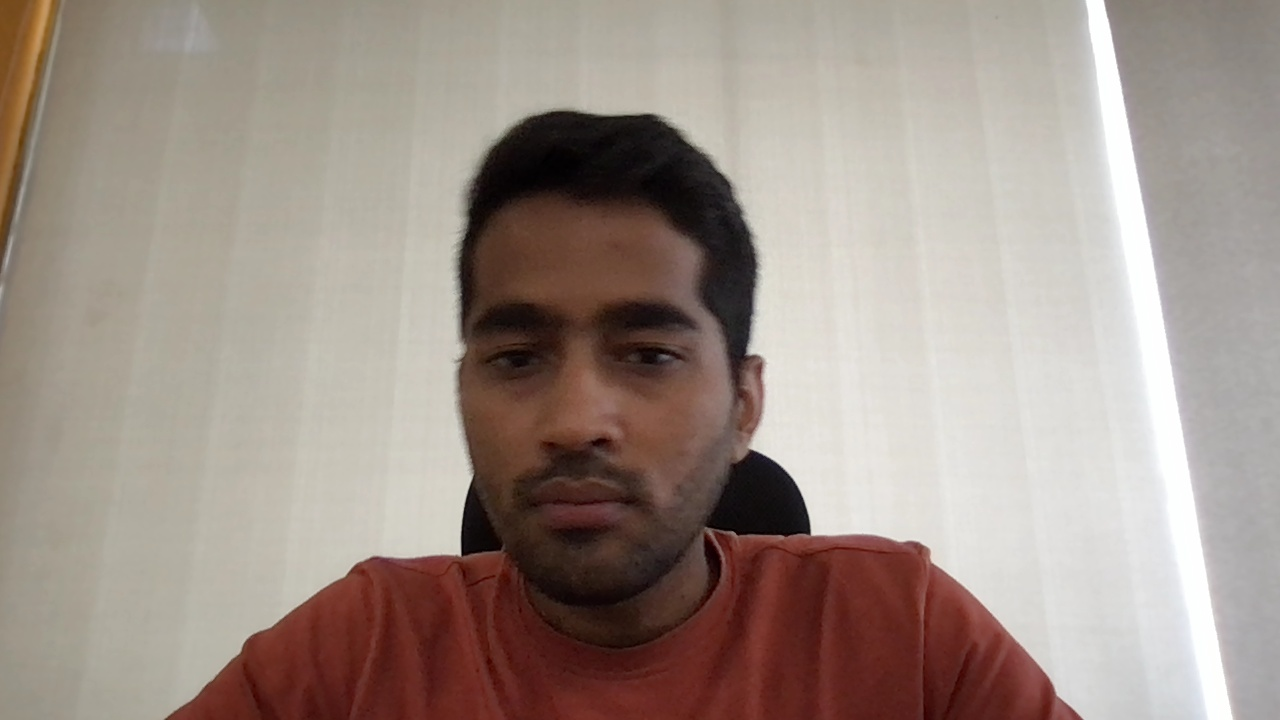no-mask: (460, 409, 750, 609)
